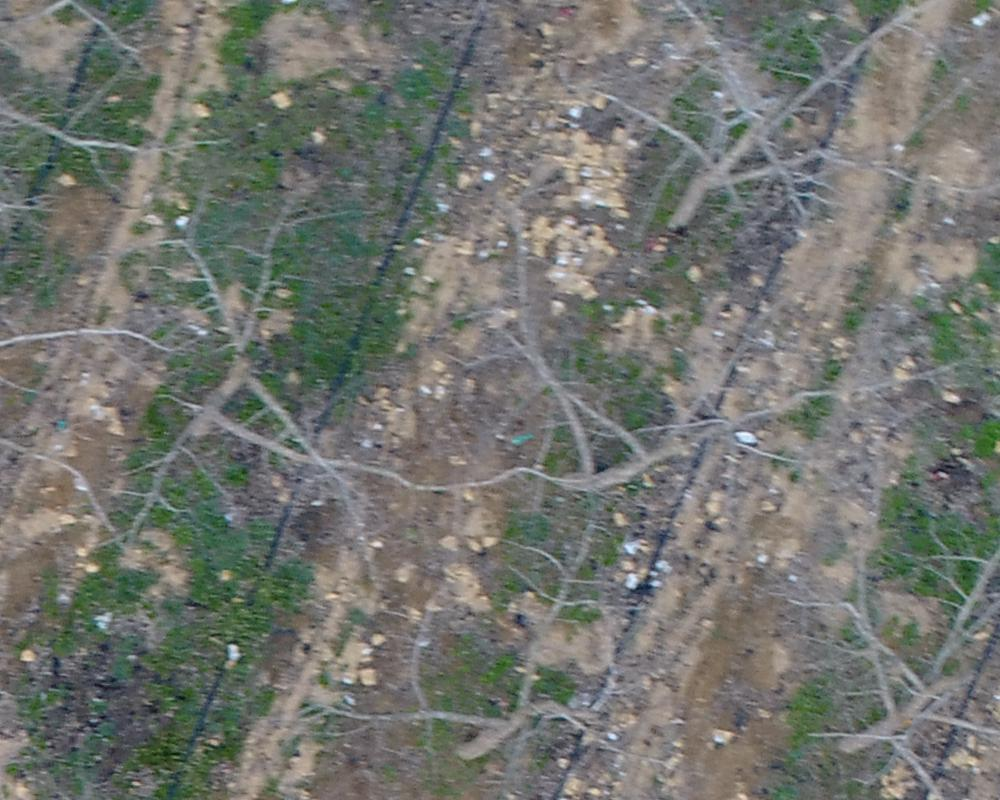apple: (438, 201, 972, 531), (120, 181, 469, 557), (291, 513, 688, 790), (585, 10, 990, 249), (781, 494, 990, 790)
